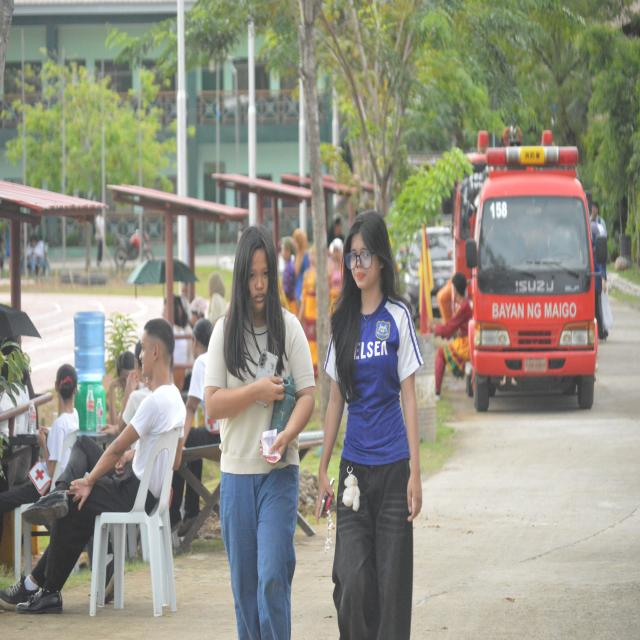person: (16, 319, 185, 613), (205, 226, 314, 639), (317, 211, 422, 639), (428, 272, 473, 399), (183, 319, 220, 447), (38, 365, 79, 477), (298, 247, 317, 375), (293, 229, 309, 308), (328, 238, 343, 309), (208, 271, 227, 326), (328, 216, 344, 246)
